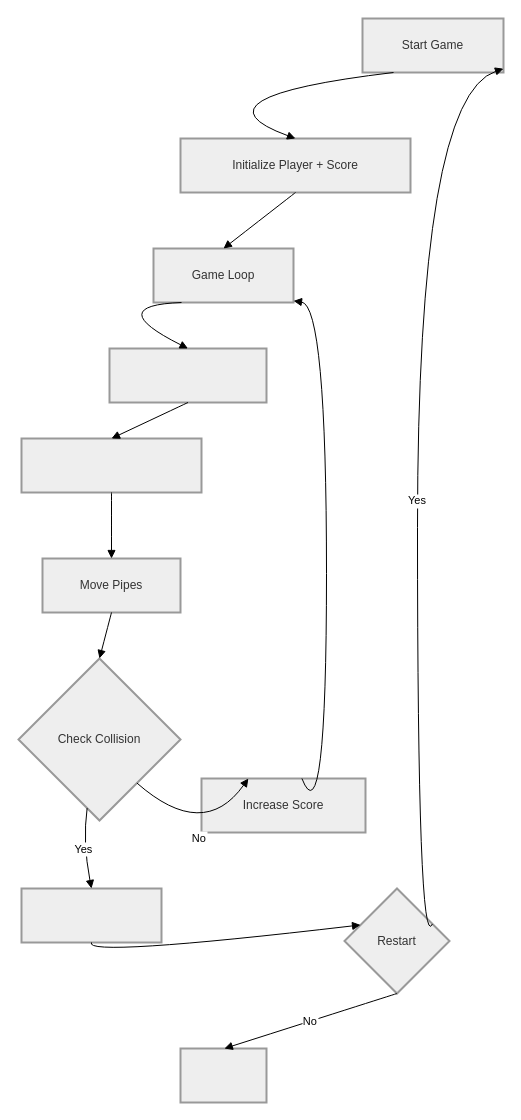
The diagram is 521 pixels wide and 1120 high, and some of its shapes have lost their labels. The centre of each missing label's shape, as x and y in pixels:
Apply Gravity: (187,375)
Check Input Flap: (111,465)
End: (223,1075)
Game Over: (91,915)
